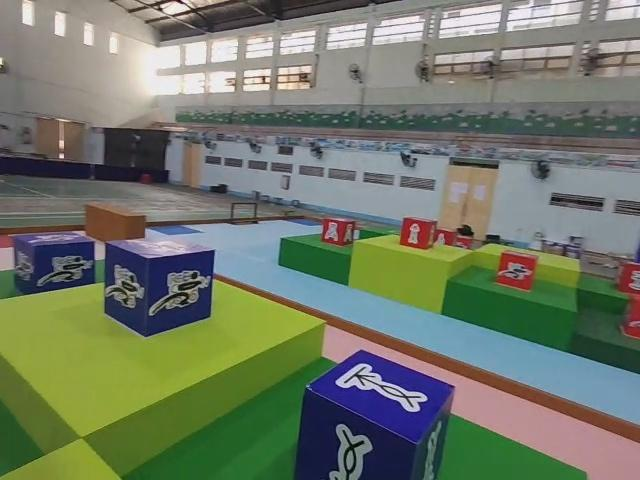R1 Blue: (101, 239, 214, 339), (13, 233, 98, 298)
R2 Real Blue: (297, 354, 452, 480)
